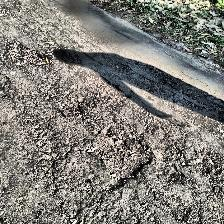pothole: (87, 132, 155, 192), (77, 72, 127, 108), (8, 42, 42, 66)
